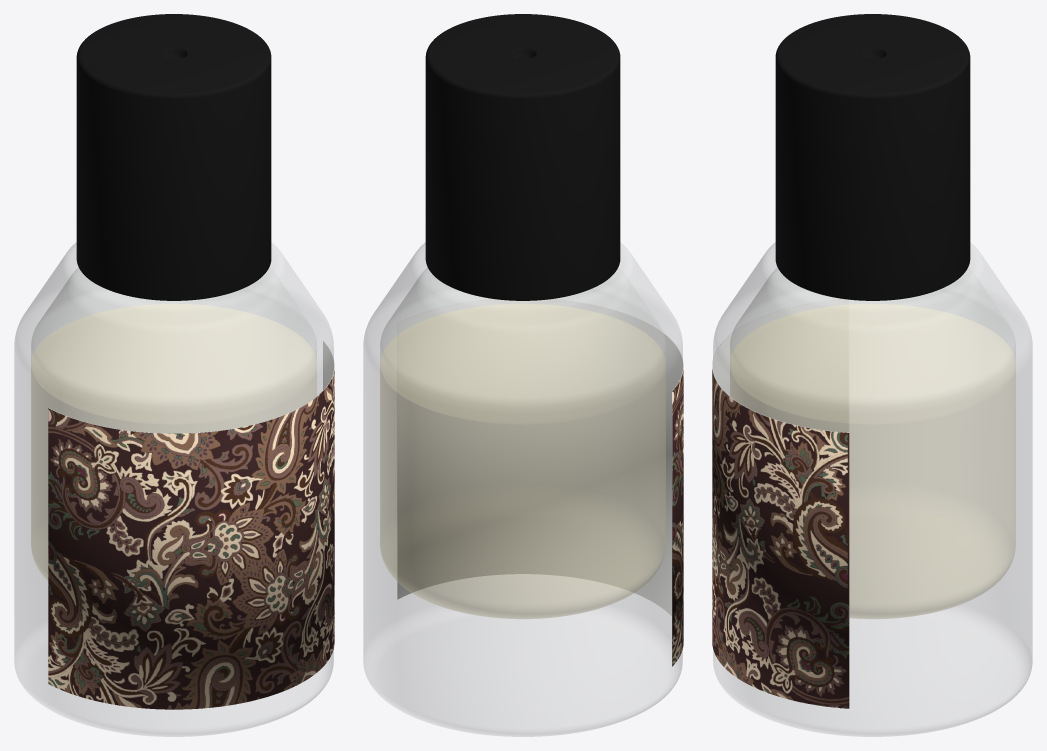
File: purnama.glb
3 views of the same model, side by side, from view 1: azimuth 30°, elevation 25°; view 2: azimuth 150°, elevation 25°; view 3: azimuth 270°, elevation 25° (orthographic).
Parts seen in each view (by area): view 1: Bottle_Label, Bottle_Glass, Cap_Main, Perfume_Liquid; view 2: Bottle_Glass, Perfume_Liquid, Bottle_Label, Cap_Main; view 3: Bottle_Glass, Perfume_Liquid, Cap_Main, Bottle_Label.
Part boxes in pixels (left/top/right/bottom): Bottle_Label: left=48, top=341, right=334, bottom=709; Bottle_Glass: left=14, top=242, right=333, bottom=736; Cap_Main: left=76, top=14, right=271, bottom=300; Perfume_Liquid: left=31, top=304, right=316, bottom=579; Bottle_Glass: left=363, top=242, right=682, bottom=736; Perfume_Liquid: left=380, top=304, right=665, bottom=618; Bottle_Label: left=397, top=299, right=683, bottom=666; Cap_Main: left=425, top=14, right=620, bottom=300; Bottle_Glass: left=713, top=242, right=1032, bottom=736; Perfume_Liquid: left=730, top=304, right=1015, bottom=618; Cap_Main: left=775, top=14, right=970, bottom=300; Bottle_Label: left=712, top=299, right=849, bottom=708.
Bounding box in the file's own units: 0.042 × 0.09 × 0.0421.
6 materials, 1 textured.
